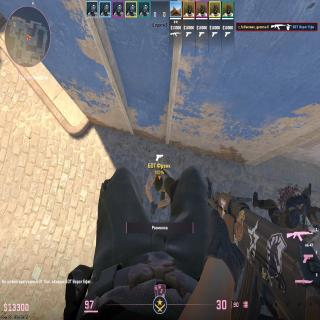CT-Body: (253, 194, 320, 228)
CT-Head: (308, 207, 320, 225)
T-Body: (145, 165, 175, 209)
T-Head: (154, 176, 164, 191)
